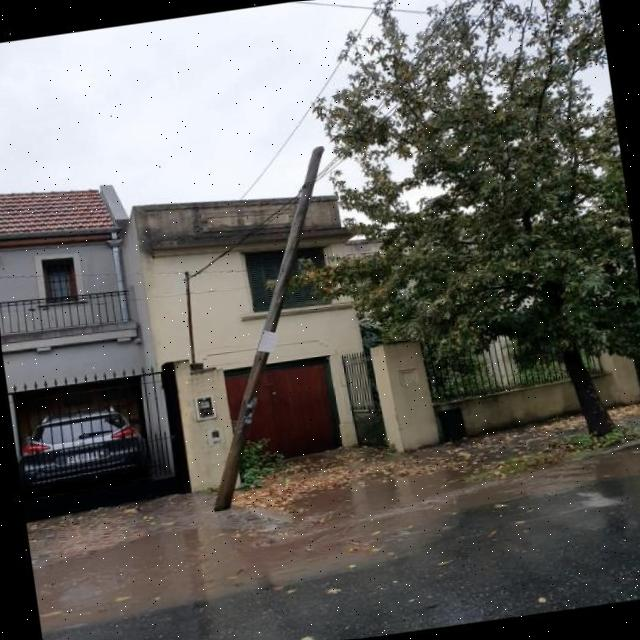Broken Pole: (213, 147, 322, 511)
